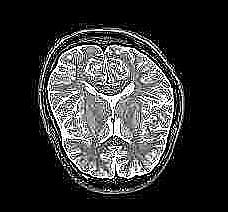Normal_Brain: (1, 1, 228, 212)
